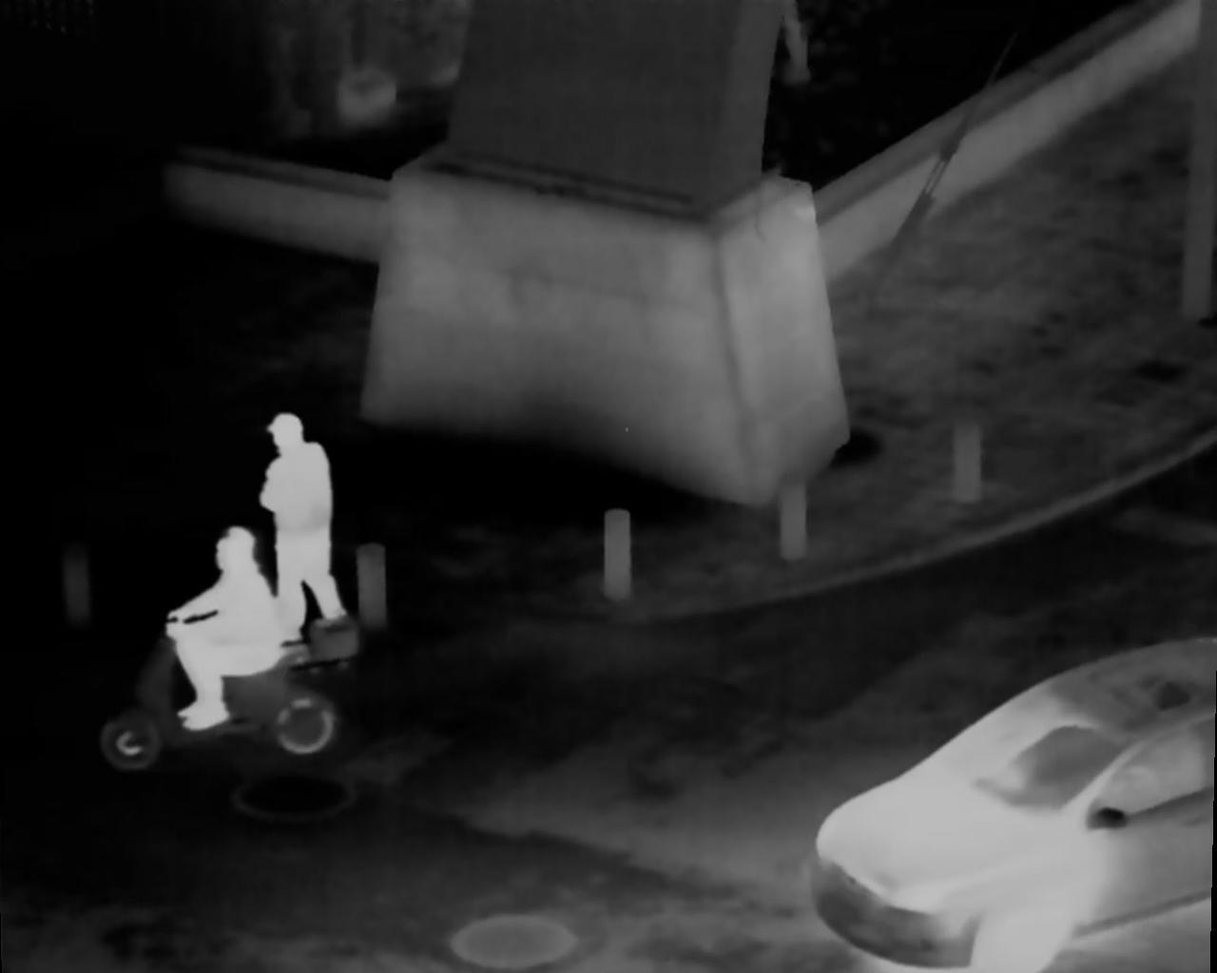person: (151, 530, 288, 734), (265, 419, 351, 641)
